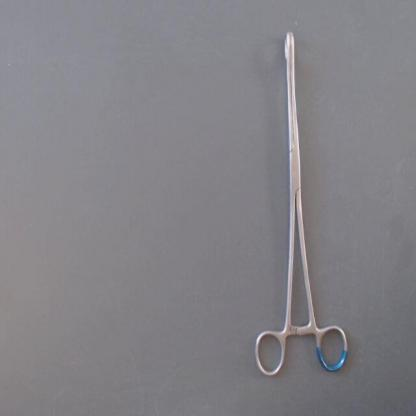Sponge Forceps: (248, 21, 354, 382)
